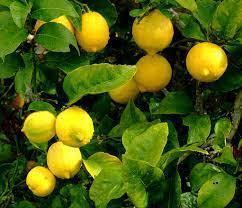lemon: (132, 9, 174, 56), (186, 42, 227, 82), (55, 107, 94, 147), (135, 54, 172, 93), (76, 10, 109, 52), (47, 141, 82, 179), (21, 111, 56, 141), (26, 167, 56, 196), (35, 13, 74, 34), (109, 78, 139, 104)
